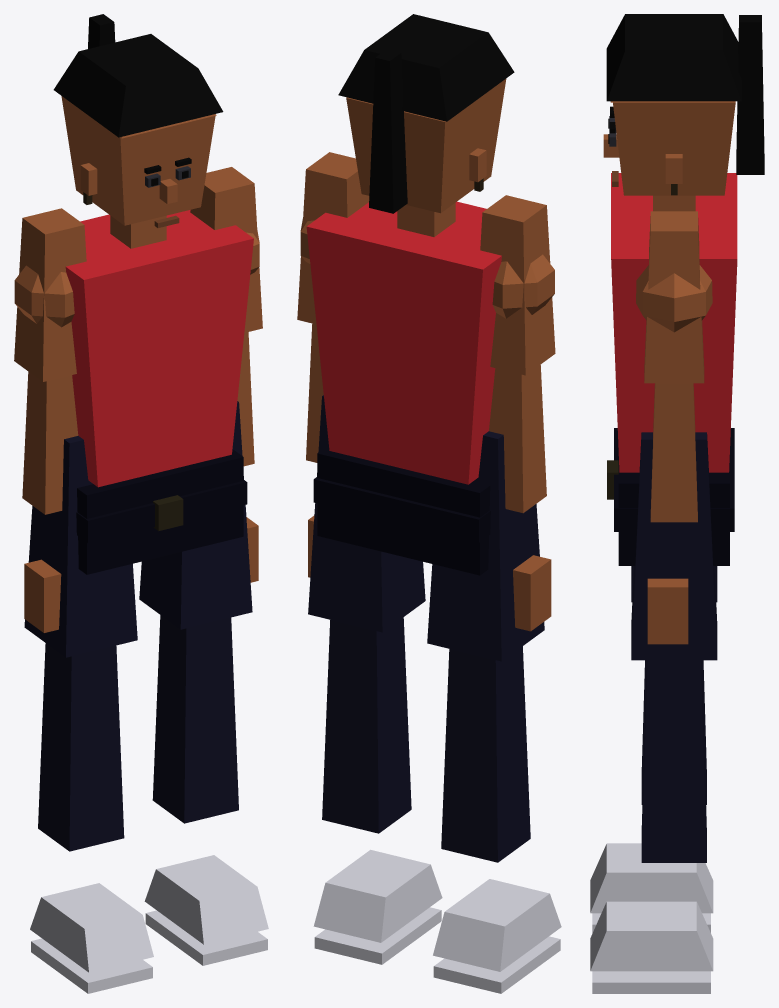
Rendered from player_lucia.glb.
3 renders of one model, left to right at view 1: azimuth 30°, elevation 25°; view 2: azimuth 150°, elevation 25°; view 3: azimuth 270°, elevation 25°, orthographic. The views are drawn at different scales.
Visible parts, largest first — view 1: torso, head, lowerLegL, lowerLegR, hips, upperLegR, footL, footR, upperArmR, upperLegL, foreArmR, upperArmL (+1 smaller); view 2: torso, head, lowerLegR, lowerLegL, hips, upperLegR, footL, footR, upperArmR, upperLegL, foreArmR, upperArmL (+1 smaller); view 3: head, torso, lowerLegL, upperLegL, footL, upperArmL, foreArmL, footR, hips, lowerLegR.
Boxes of the visible parts, left/top/right/bottom form: torso: left=65, top=210, right=253, bottom=487; head: left=53, top=14, right=223, bottom=227; lowerLegL: left=152, top=615, right=238, bottom=823; lowerLegR: left=38, top=643, right=124, bottom=851; hips: left=76, top=450, right=247, bottom=574; upperLegR: left=24, top=436, right=137, bottom=657; footL: left=144, top=855, right=268, bottom=965; footR: left=30, top=883, right=153, bottom=993; upperArmR: left=14, top=208, right=86, bottom=381; upperLegL: left=139, top=401, right=252, bottom=629; foreArmR: left=22, top=372, right=78, bottom=632; upperArmL: left=190, top=167, right=262, bottom=332; torso: left=306, top=201, right=501, bottom=484; head: left=338, top=14, right=514, bottom=213; lowerLegR: left=441, top=646, right=530, bottom=862; lowerLegL: left=322, top=617, right=411, bottom=833; hips: left=313, top=446, right=490, bottom=575; upperLegR: left=427, top=431, right=544, bottom=661; footL: left=313, top=849, right=442, bottom=964; footR: left=433, top=879, right=561, bottom=993; upperArmR: left=480, top=195, right=555, bottom=375; upperLegL: left=308, top=395, right=425, bottom=632; foreArmR: left=489, top=365, right=551, bottom=631; upperArmL: left=297, top=152, right=369, bottom=324; head: left=603, top=14, right=764, bottom=195; torso: left=611, top=173, right=737, bottom=472; lowerLegL: left=641, top=660, right=706, bottom=862; upperLegL: left=631, top=432, right=717, bottom=660; footL: left=590, top=901, right=713, bottom=993; upperArmL: left=636, top=211, right=712, bottom=383; foreArmL: left=647, top=383, right=697, bottom=644; footR: left=590, top=843, right=713, bottom=933; hips: left=607, top=428, right=734, bottom=565; lowerLegR: left=641, top=660, right=706, bottom=804.
Bounding box in the file's own units: 0.4713 × 1.72 × 0.293.
